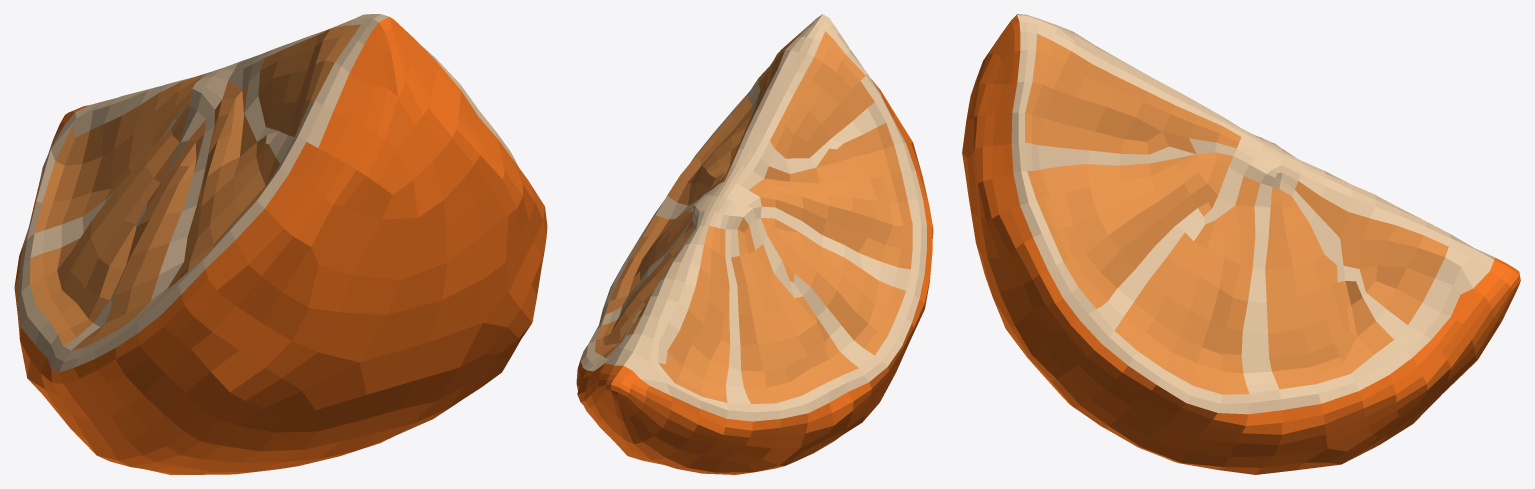
File: oranges.fbx
The picture shows the model from 3 angles, left to right: view 1: azimuth 30°, elevation 25°; view 2: azimuth 150°, elevation 25°; view 3: azimuth 270°, elevation 25°; orthographic projection. The views are drawn at different scales.
Parts seen in each view (by area): view 1: Retopo_tripo_node_e7ad728d; view 2: Retopo_tripo_node_e7ad728d; view 3: Retopo_tripo_node_e7ad728d.
Boxes of the visible parts, x1,y1,x2,y2 form: Retopo_tripo_node_e7ad728d: (14,14,547,474); Retopo_tripo_node_e7ad728d: (576,14,933,474); Retopo_tripo_node_e7ad728d: (962,14,1520,474).
Size of the model in its own units: 70.2 by 83.68 by 99.15.
